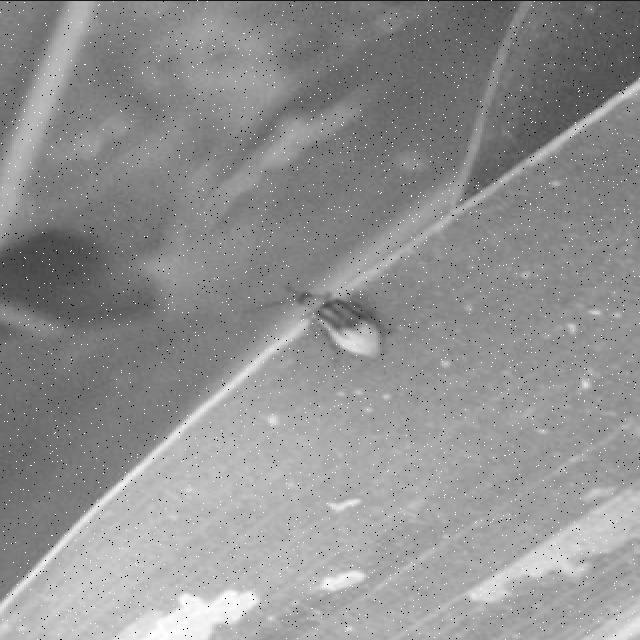trips: (250, 282, 400, 362)
